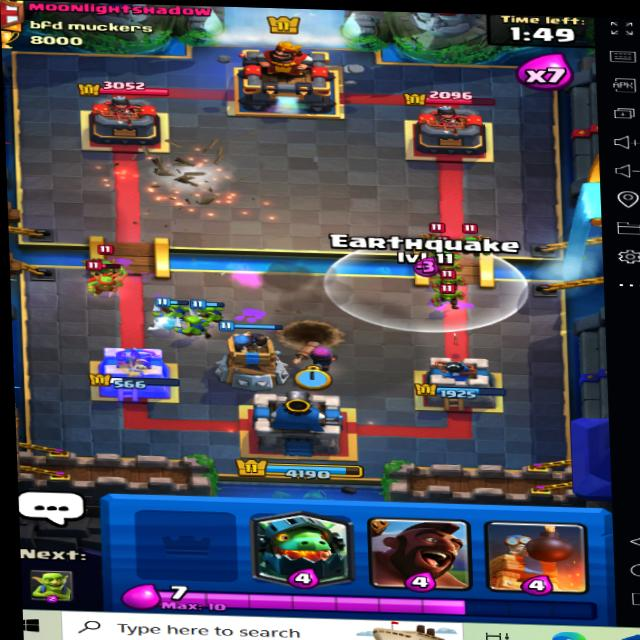Goblin: (430, 278, 476, 308), (427, 271, 470, 295)
Speargoblin: (455, 224, 493, 255), (86, 244, 120, 277), (82, 267, 116, 296)
